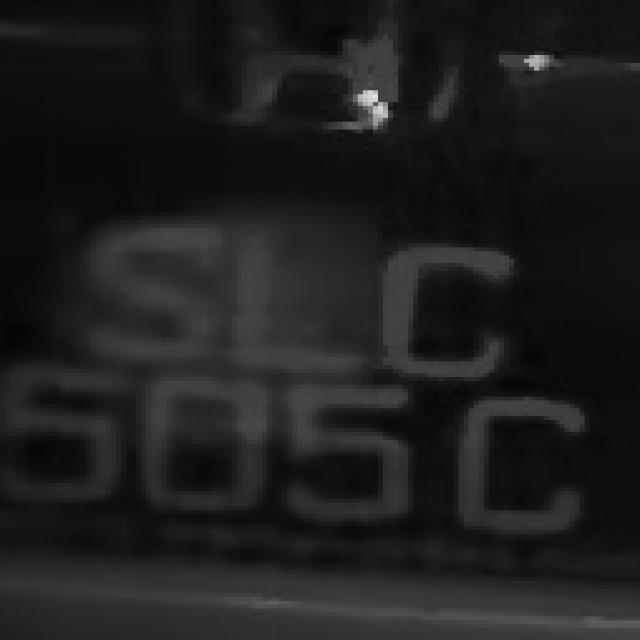0: (126, 361, 282, 526)
5: (0, 346, 121, 514), (287, 365, 408, 530)
C: (468, 381, 604, 546), (383, 228, 524, 381)
L: (217, 212, 363, 385)
S: (90, 192, 216, 377)
